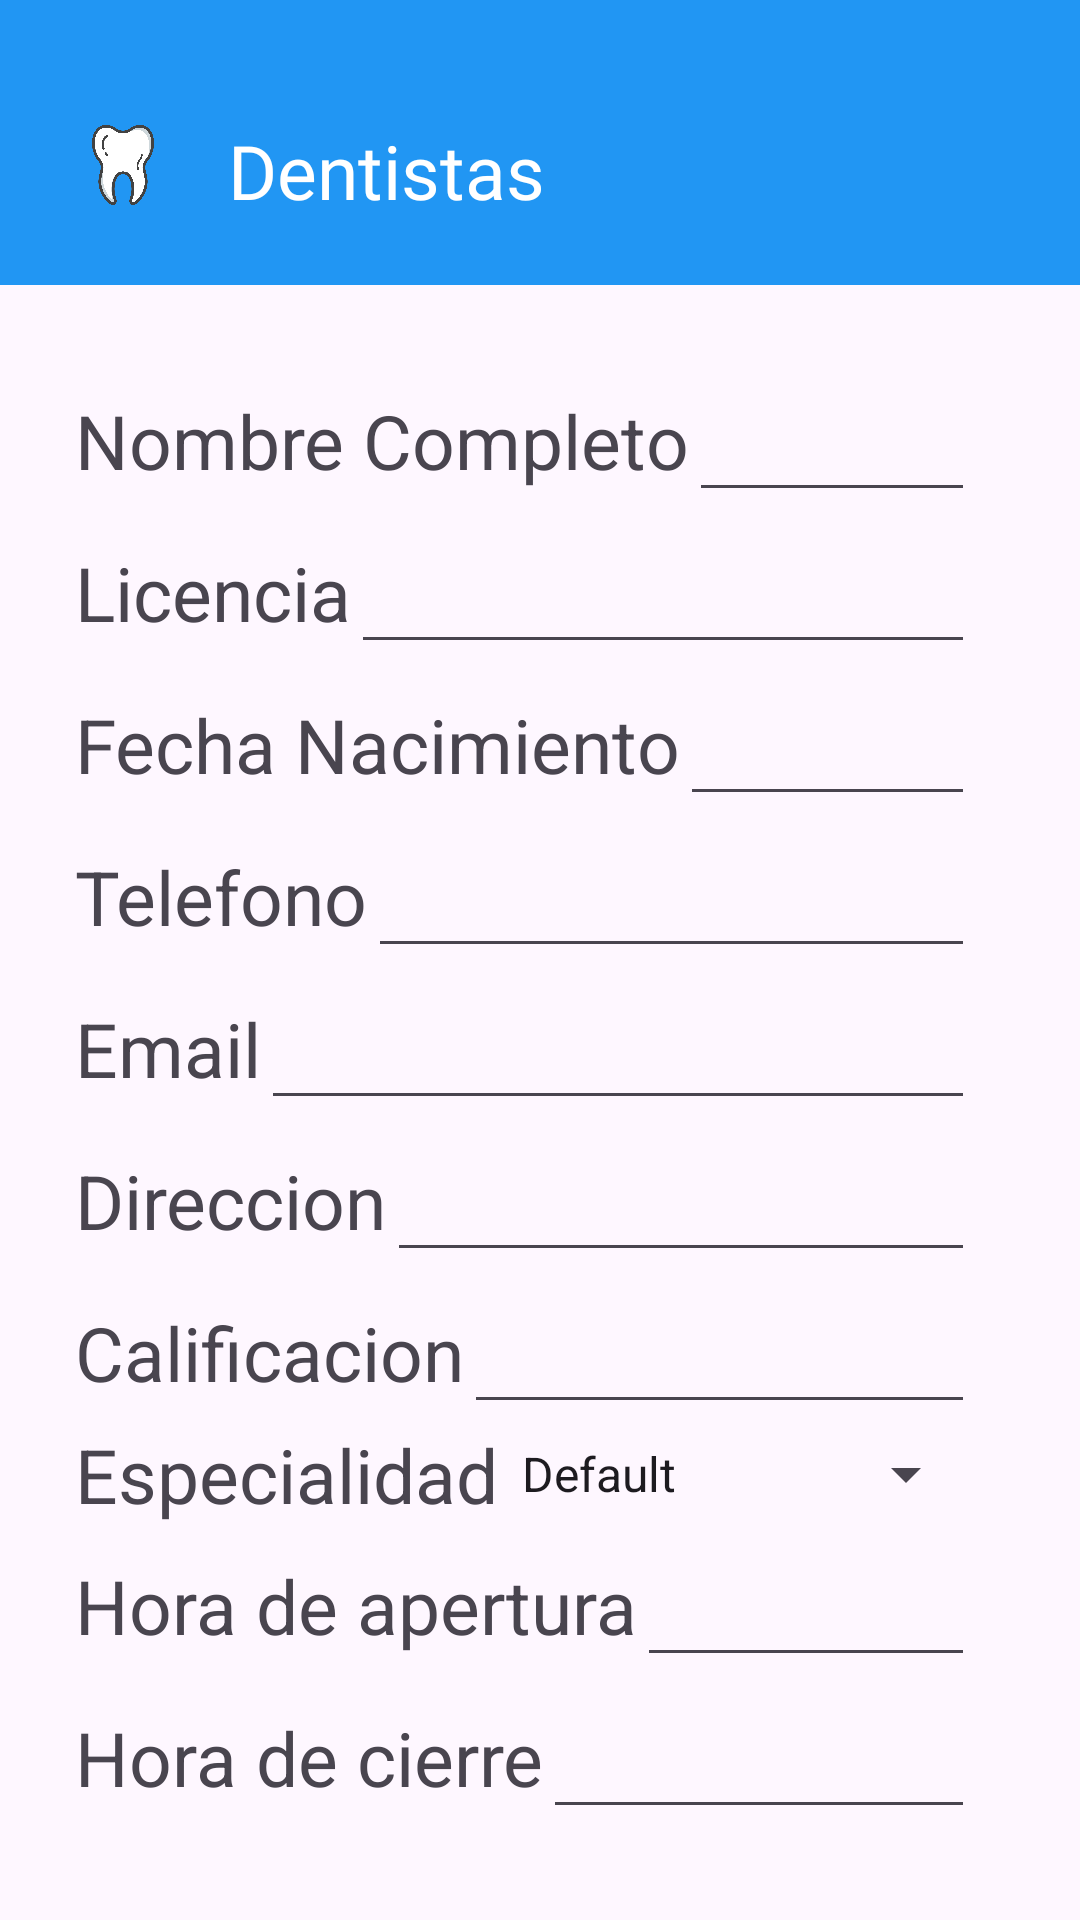

Icons on this 1080 x 1920 Android screen, each with the point to tap as [x,y]:
diente: [123,165]
